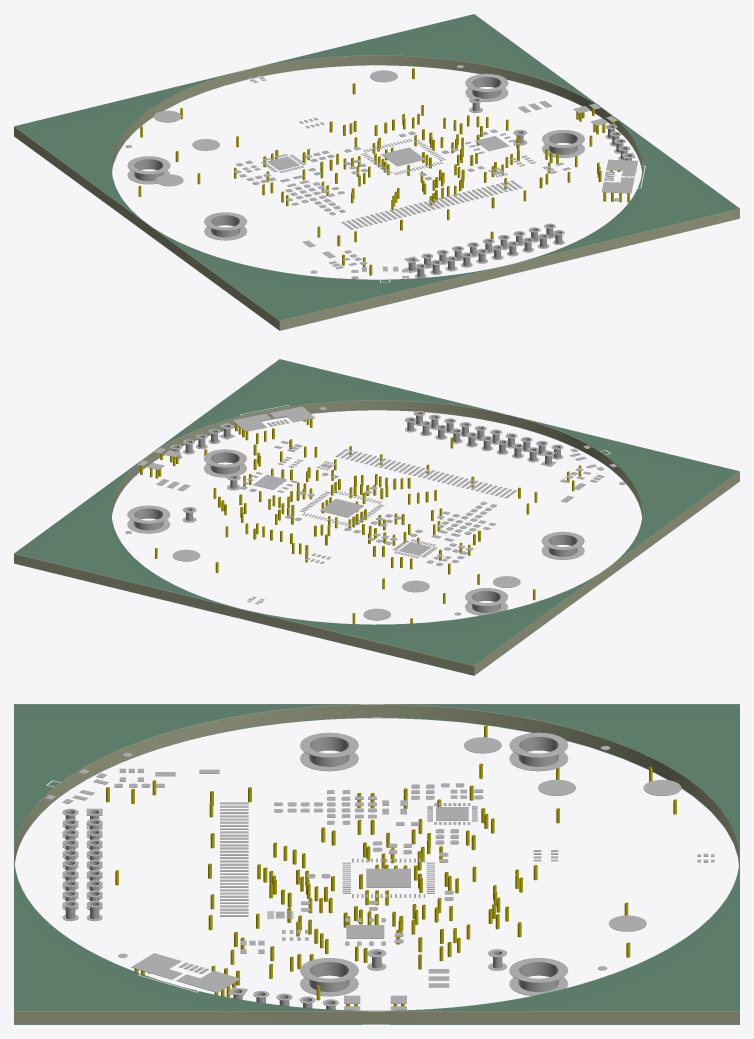
The model's file is saintcon-2021-badge-compukidmike.glb.
3 views of the same model, one above another, from view 1: azimuth 30°, elevation 25°; view 2: azimuth 150°, elevation 25°; view 3: azimuth 270°, elevation 25° (orthographic). The views are drawn at different scales.
Parts seen in each view (by area): view 1: =>[0:1:1:8], =>[0:1:1:6], =>[0:1:1:2]; view 2: =>[0:1:1:8], =>[0:1:1:6], =>[0:1:1:2]; view 3: =>[0:1:1:8], =>[0:1:1:6], =>[0:1:1:2].
Part boxes in pixels (x1,y1,x2,y2): =>[0:1:1:8]: (14,15,739,330); =>[0:1:1:6]: (14,14,739,330); =>[0:1:1:2]: (125,65,637,278); =>[0:1:1:8]: (14,360,739,675); =>[0:1:1:6]: (14,359,739,675); =>[0:1:1:2]: (125,406,625,623); =>[0:1:1:8]: (14,704,739,1024); =>[0:1:1:6]: (14,704,739,1024); =>[0:1:1:2]: (45,725,714,1010).
Bounding box in the file's own units: 0.0763 × 0.00166 × 0.0763.
Materials: 4 (4 with a texture image).
